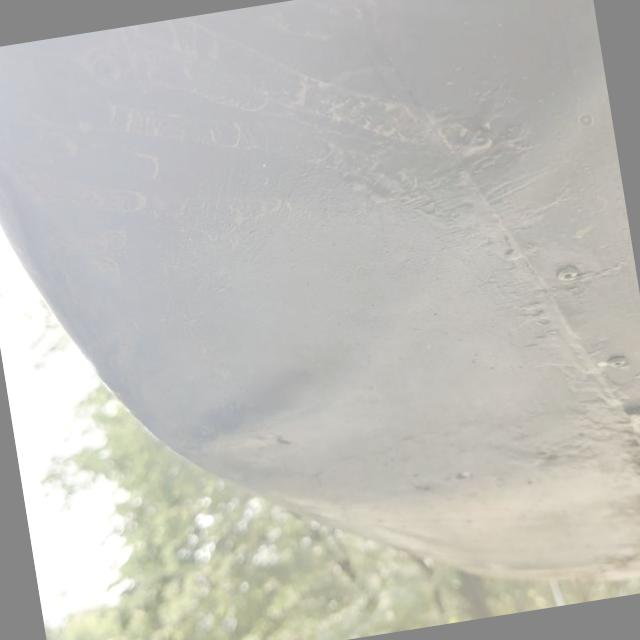dent: (133, 309, 389, 510)
